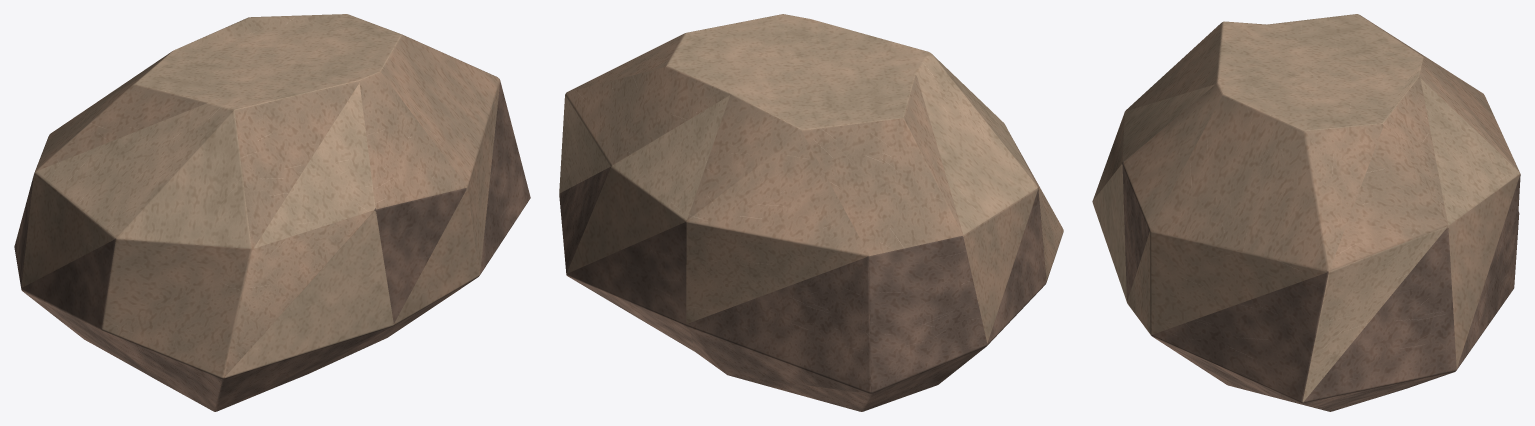
Rendered from PitLipRubble_03.glb.
3 views of the same model, side by side, from view 1: azimuth 30°, elevation 25°; view 2: azimuth 150°, elevation 25°; view 3: azimuth 270°, elevation 25° (orthographic). The views are drawn at different scales.
Visible parts, largest first — view 1: Fractured_crust_warm_panel.002; view 2: Fractured_crust_warm_panel.002; view 3: Fractured_crust_warm_panel.002.
Part boxes in pixels (x1,y1,x2,y2): Fractured_crust_warm_panel.002: [14, 14, 530, 411]; Fractured_crust_warm_panel.002: [559, 14, 1063, 411]; Fractured_crust_warm_panel.002: [1092, 14, 1520, 411].
Size of the model in its own units: 0.6543 by 0.3703 by 0.4871.
3 materials, 3 textured.
